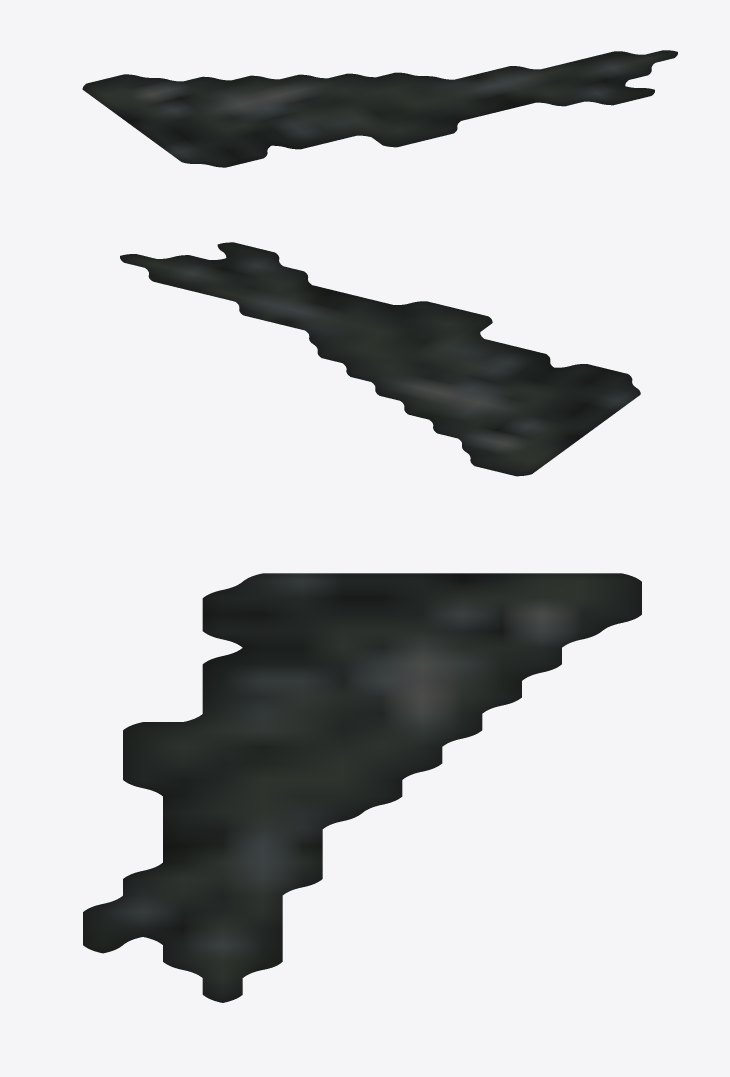
Rendered from SM_EC_Tree_Part_Card_10.fbx.
3 views of the same model, one above another, from view 1: azimuth 30°, elevation 25°; view 2: azimuth 150°, elevation 25°; view 3: azimuth 270°, elevation 25° (orthographic). The views are drawn at different scales.
Visible parts, largest first — view 1: SM_EC_Tree_Part_Card_10; view 2: SM_EC_Tree_Part_Card_10; view 3: SM_EC_Tree_Part_Card_10.
Part boxes in pixels (x1=…): SM_EC_Tree_Part_Card_10: x1=82, y1=50, x2=677, y2=167; SM_EC_Tree_Part_Card_10: x1=120, y1=242, x2=640, y2=476; SM_EC_Tree_Part_Card_10: x1=83, y1=573, x2=641, y2=1002.
Size of the model in its own units: 0.4882 by 0.2747 by 1.53e-10.
